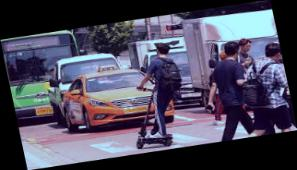nonhelmet: (115, 40, 195, 150)
